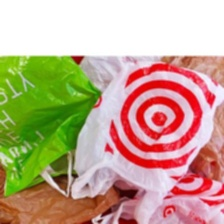plastic_bag: (69, 58, 222, 222), (0, 54, 101, 199), (159, 56, 224, 187), (0, 160, 124, 224), (91, 171, 224, 223), (72, 53, 164, 108)
